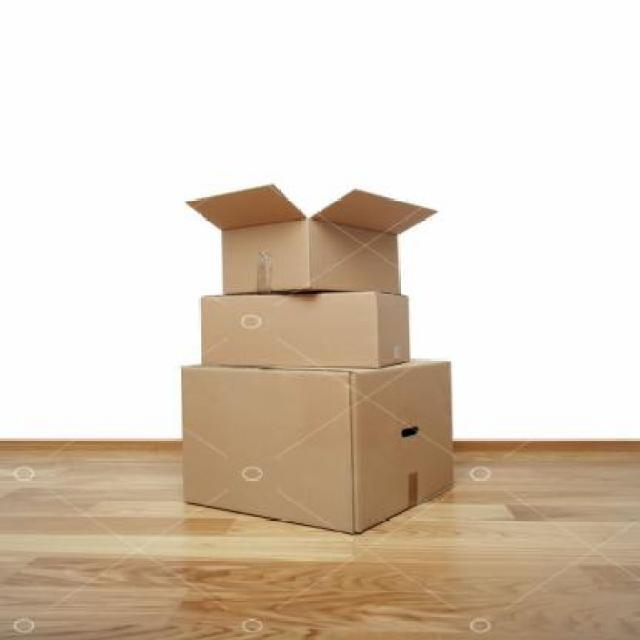box: (181, 356, 456, 536), (188, 178, 412, 296), (194, 286, 415, 372)
